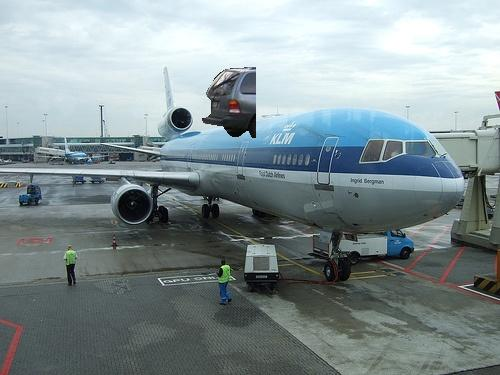tampered: (203, 68, 256, 138)
